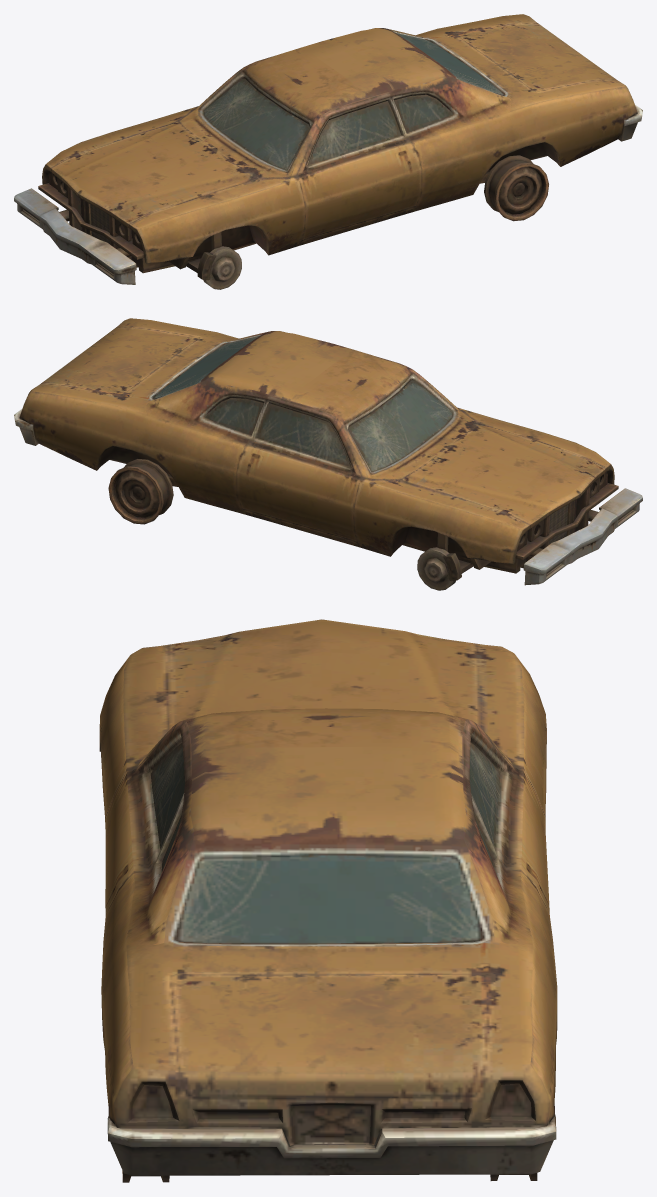
The model's file is School_WreckCar01.fbx.
The picture shows the model from 3 angles, top to bottom: view 1: azimuth 30°, elevation 25°; view 2: azimuth 150°, elevation 25°; view 3: azimuth 270°, elevation 25°; orthographic projection. The views are drawn at different scales.
Visible parts, largest first — view 1: ItemBox_WreckCar_Yellow_01; view 2: ItemBox_WreckCar_Yellow_01; view 3: ItemBox_WreckCar_Yellow_01.
Part boxes in pixels (left/top/right/bottom): ItemBox_WreckCar_Yellow_01: left=14, top=14, right=642, bottom=289; ItemBox_WreckCar_Yellow_01: left=14, top=318, right=642, bottom=590; ItemBox_WreckCar_Yellow_01: left=99, top=619, right=557, bottom=1182.
Bounding box in the file's own units: 548 × 146 × 202.
Materials: 1 (1 with a texture image).
